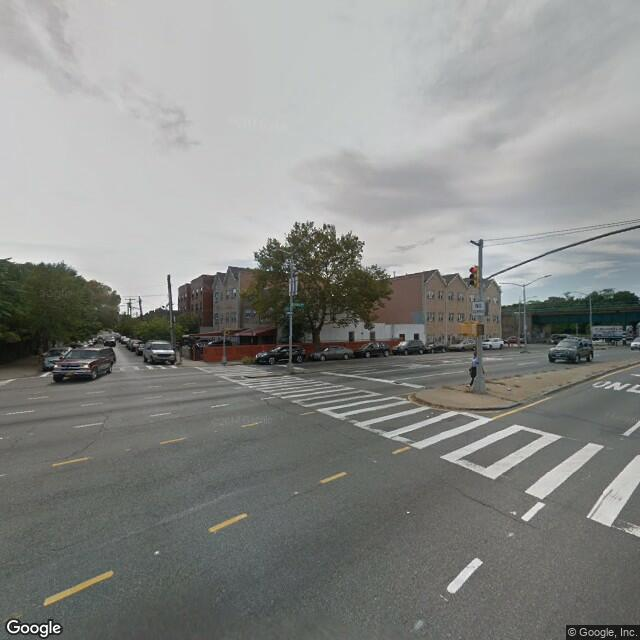litter: (240, 354, 256, 367)
